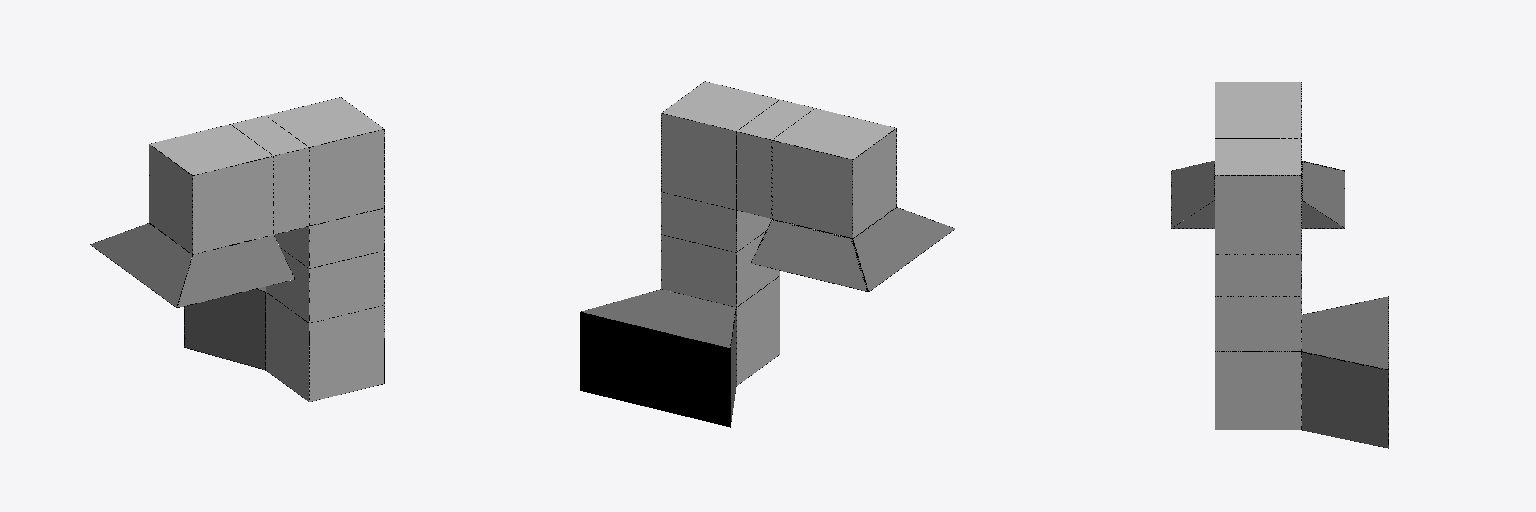
3 renders of one model, left to right at view 1: azimuth 30°, elevation 25°; view 2: azimuth 150°, elevation 25°; view 3: azimuth 270°, elevation 25°, orthographic.
Visible parts, largest first — view 1: loader_Cube; view 2: loader_Cube; view 3: loader_Cube.
Boxes of the visible parts, x1=… form: loader_Cube: x1=90, y1=97, x2=384, y2=401; loader_Cube: x1=580, y1=81, x2=955, y2=427; loader_Cube: x1=1171, y1=82, x2=1388, y2=448.
Bounding box in the file's own units: 7.09 × 6.47 × 5.
Materials: 1 (1 with a texture image).